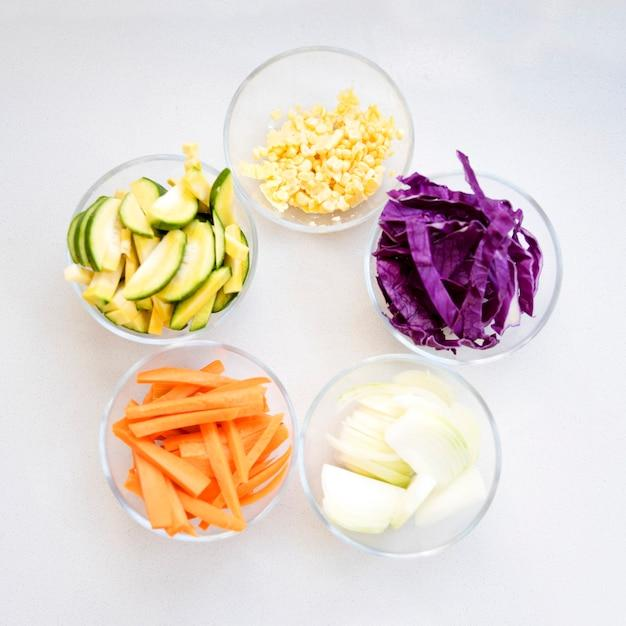carrot: (78, 367, 328, 602)
